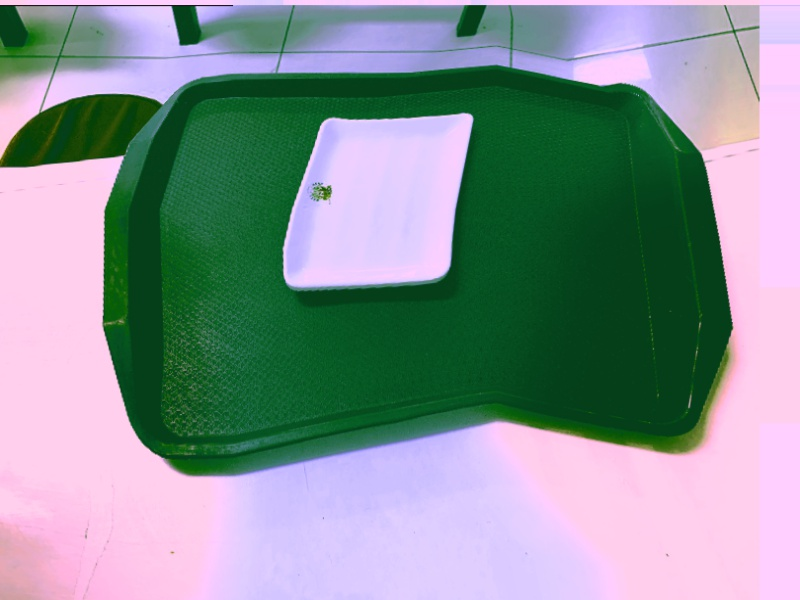dish4: (282, 99, 486, 313)
